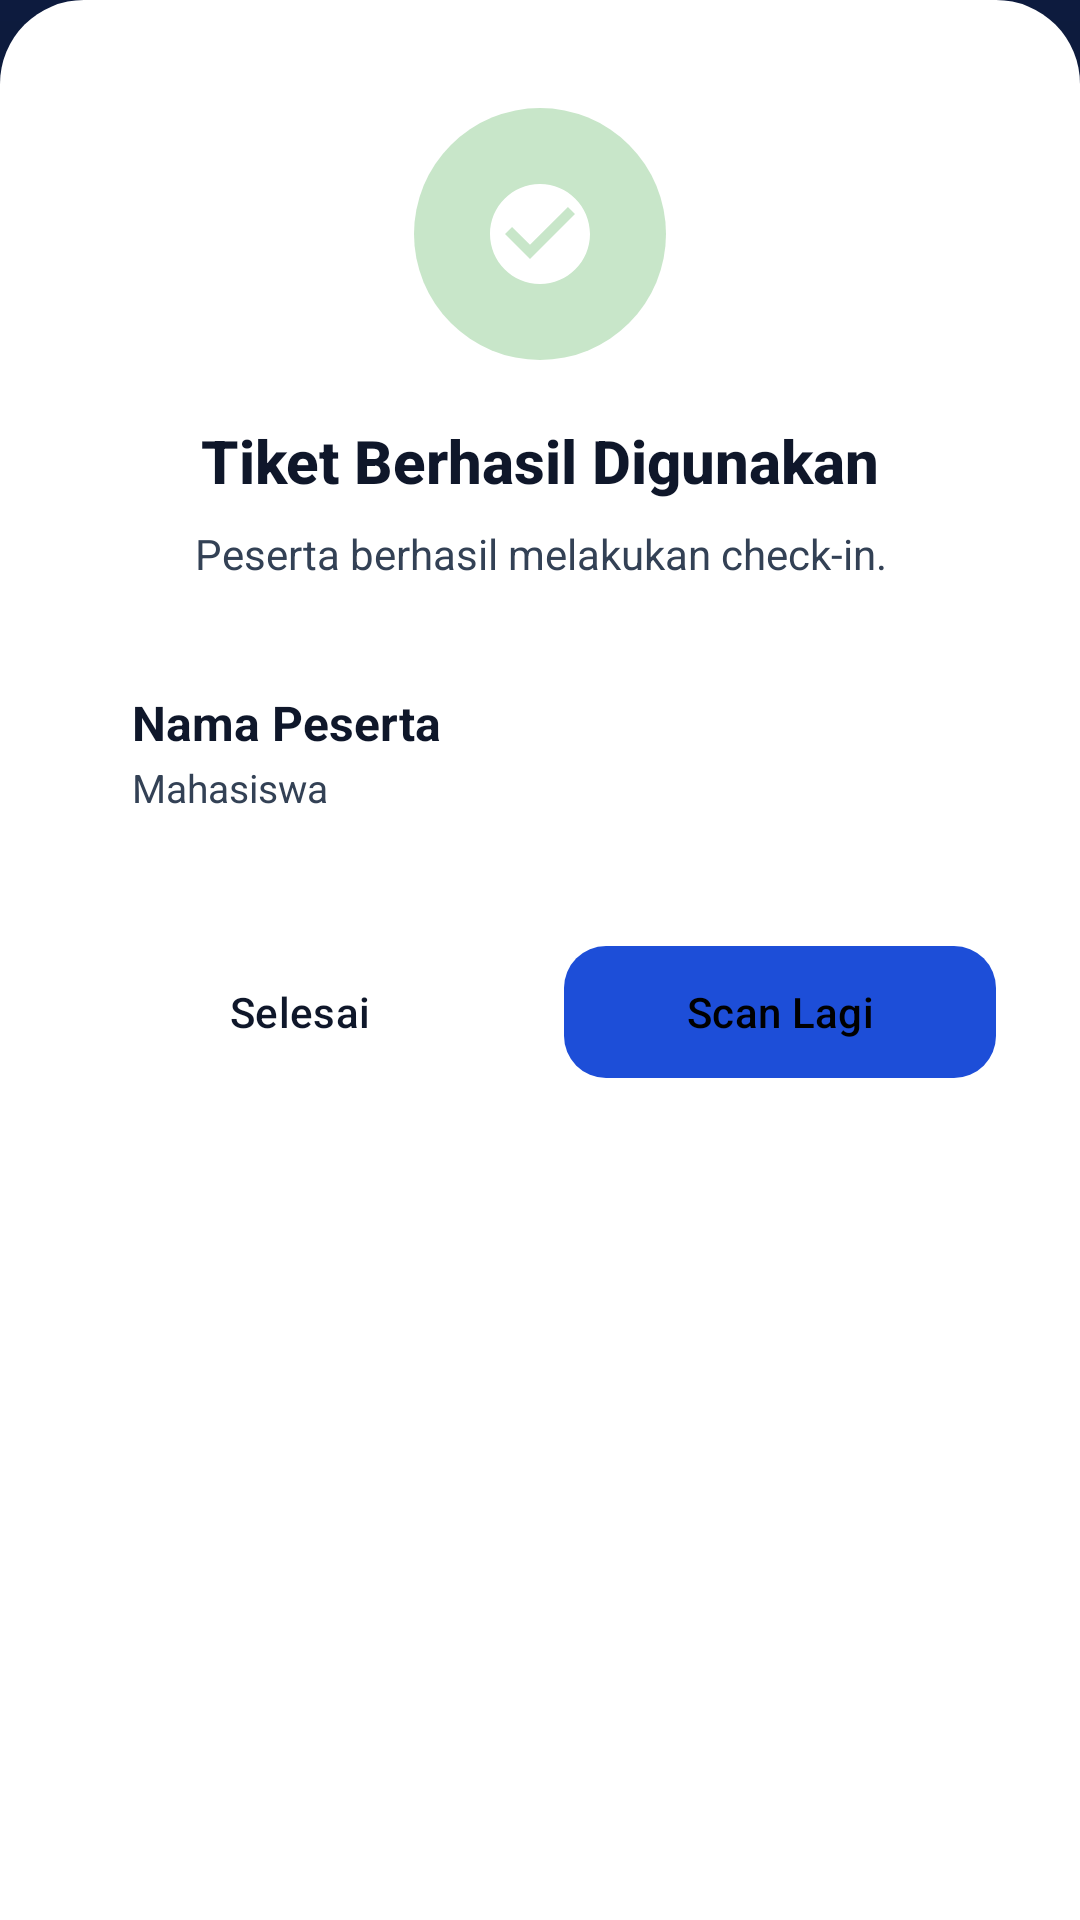

Where icons sit on this 1080×1920 app screen, as [x1=x1, y1=y1, x2=x2, y2=y2]:
check circle: [x1=490, y1=184, x2=590, y2=284]
